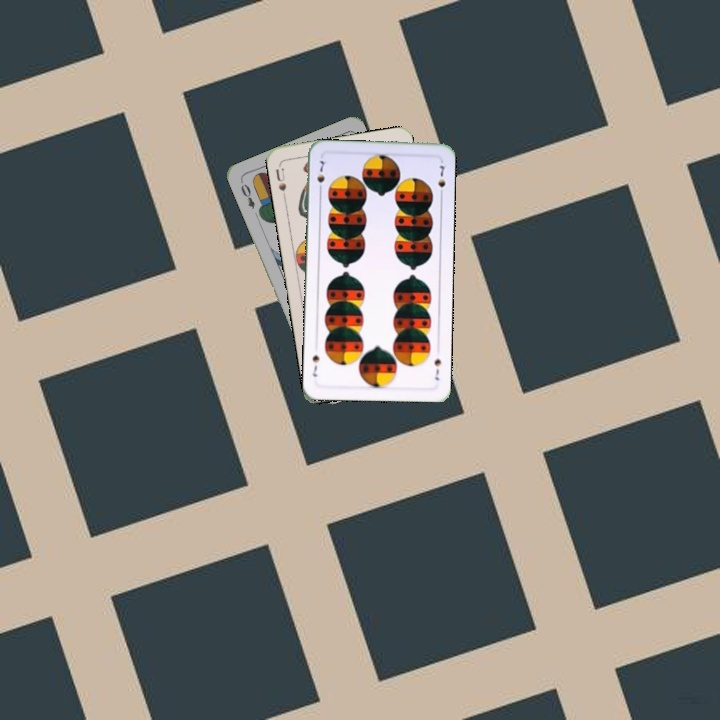EO: (237, 179, 257, 211)
S7: (313, 156, 329, 195), (430, 354, 444, 383)
SU: (271, 164, 289, 201)
